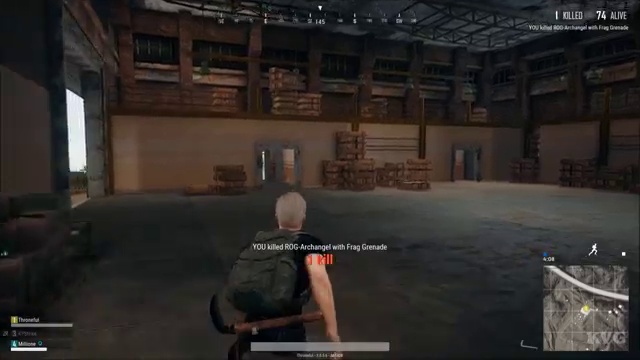Player: (194, 174, 374, 323)
